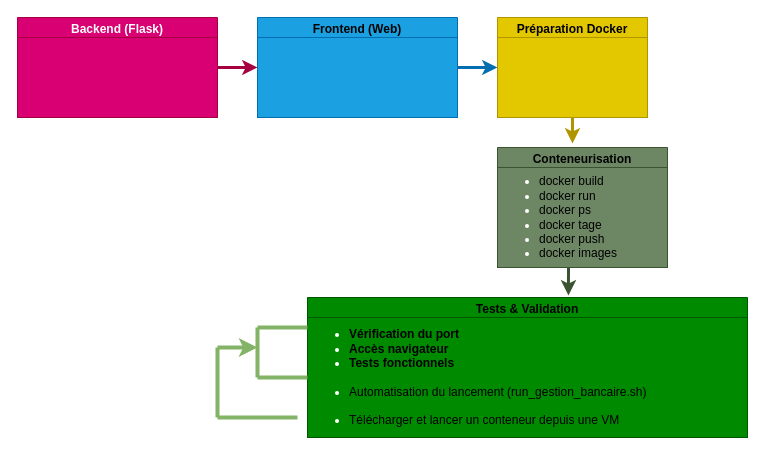
This 765x457 diagram has some shape labels left out. The centre of each missing label's shape, as x and y in pixels:
"HTML / CSS / JS Templates Flask Pages login / register" belongs at point (357, 77).
"Logique bancaire Dépôt / Retrait Gestion comptes (CRUD) Base de données SQLite" belongs at point (117, 77).
"requirements.txt Dockerfile .dockerignore" belongs at point (572, 77).
